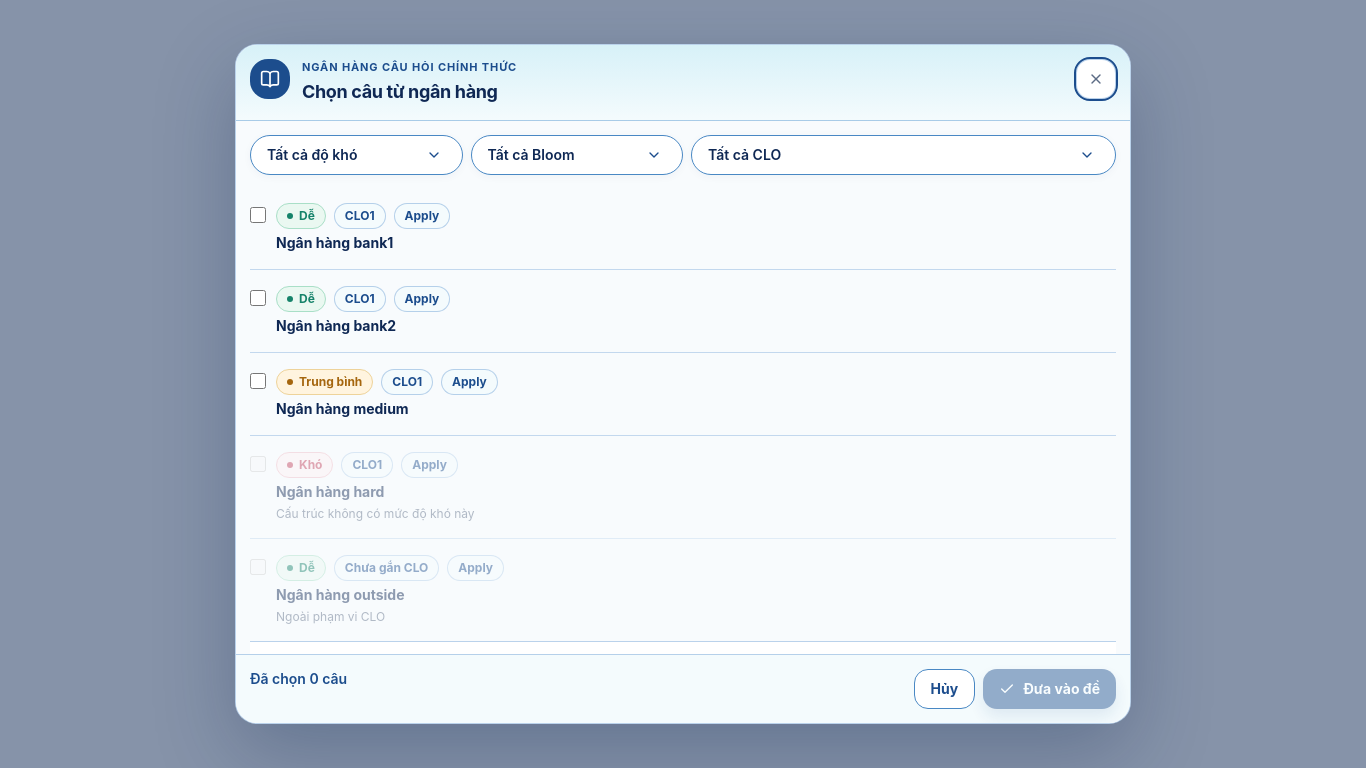
Scenario: Soạn bộ đề với các tab cố định › keeps ineligible bank questions visible and lets a full difficulty be selected for replacement
Click the checkbox named "Chọn Ngân hàng bank1" at {"x": 258, "y": 214}, box [250, 206, 266, 222]
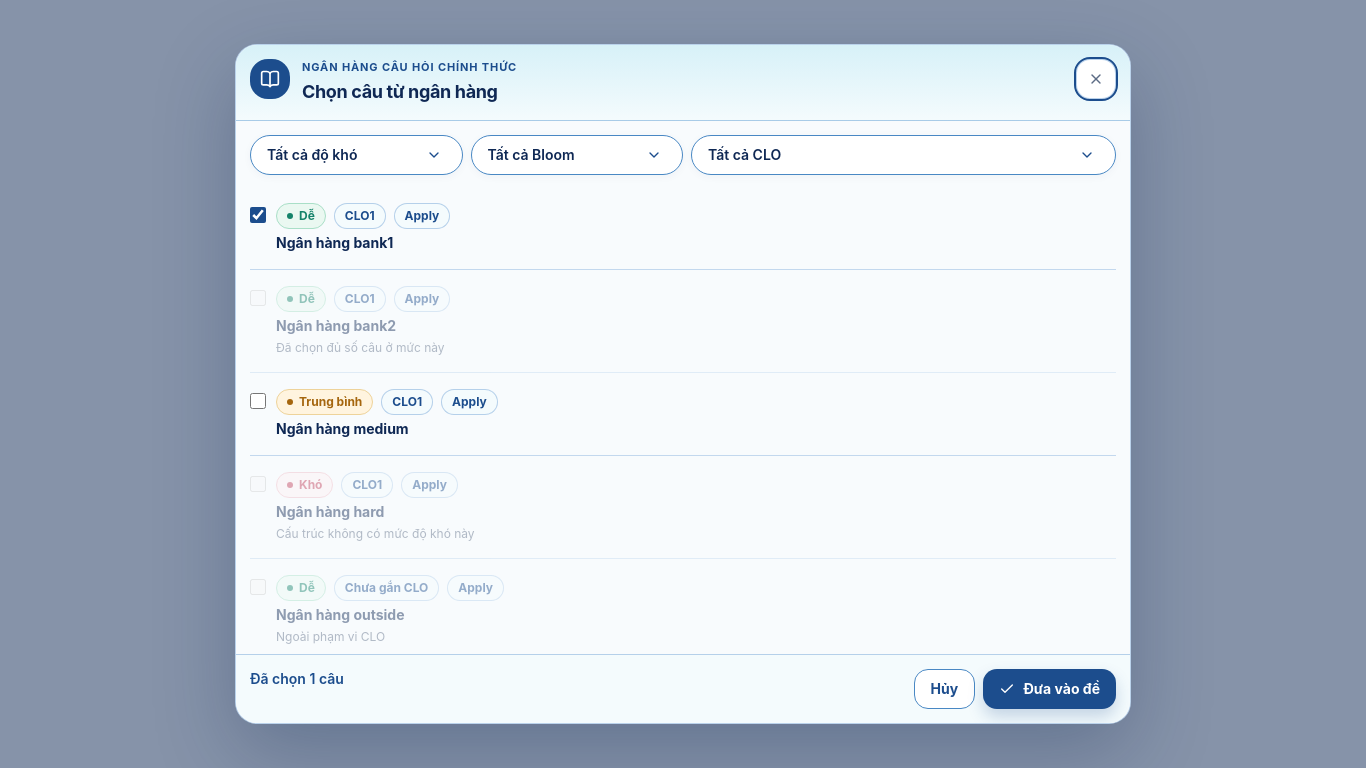
Click the checkbox named "Chọn Ngân hàng bank1" at {"x": 258, "y": 214}, box [250, 206, 266, 222]
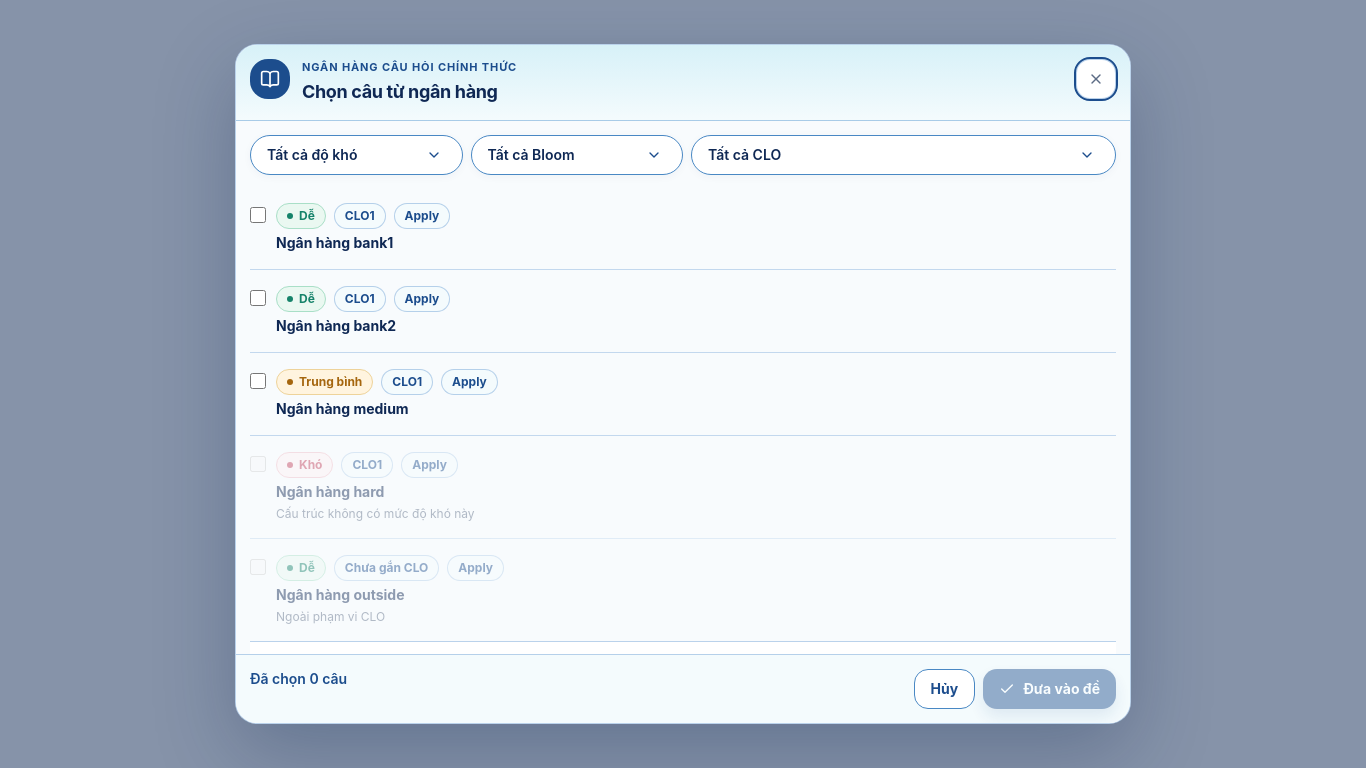
Now the checkbox named "Chọn Ngân hàng bank2" is enabled, box [250, 290, 266, 306]
